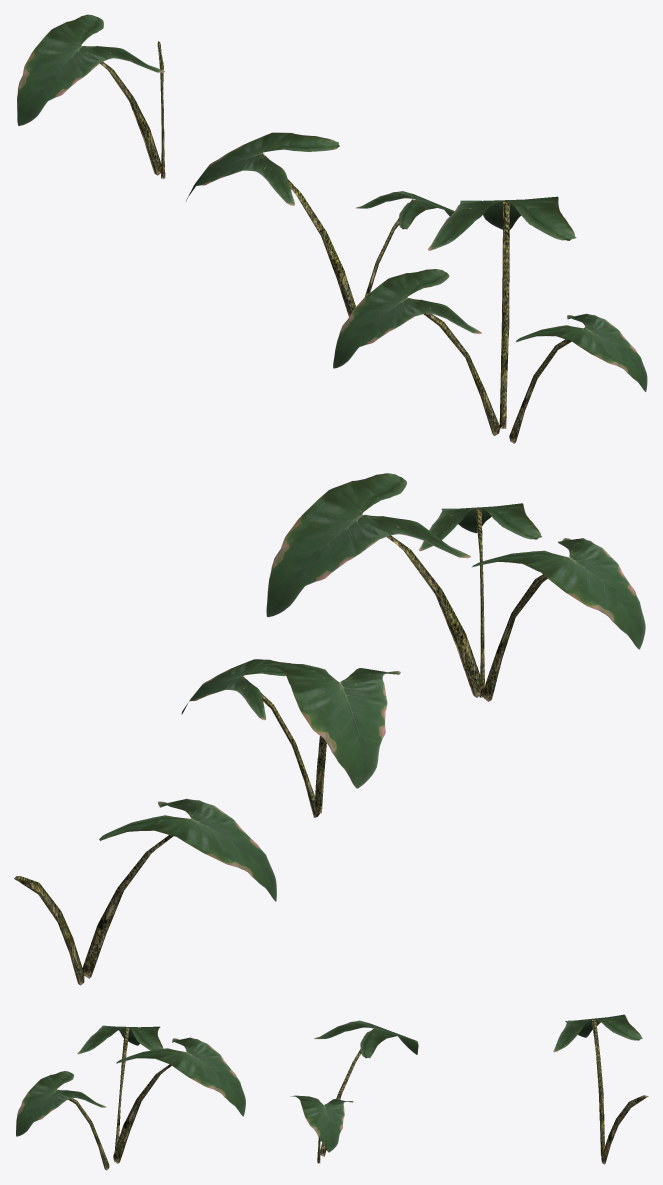
3 renders of one model, top to bottom at view 1: azimuth 30°, elevation 25°; view 2: azimuth 150°, elevation 25°; view 3: azimuth 270°, elevation 25°, orthographic. The views are drawn at different scales.
Parts seen in each view (by area): view 1: Object_2; view 2: Object_2; view 3: Object_2.
Boxes of the visible parts, x1,y1,x2,y2 form: Object_2: (17, 14, 647, 443); Object_2: (14, 473, 645, 985); Object_2: (16, 1014, 648, 1170).
Size of the model in its own units: 3.44 by 2.42 by 10.05.
1 material, 1 textured.
